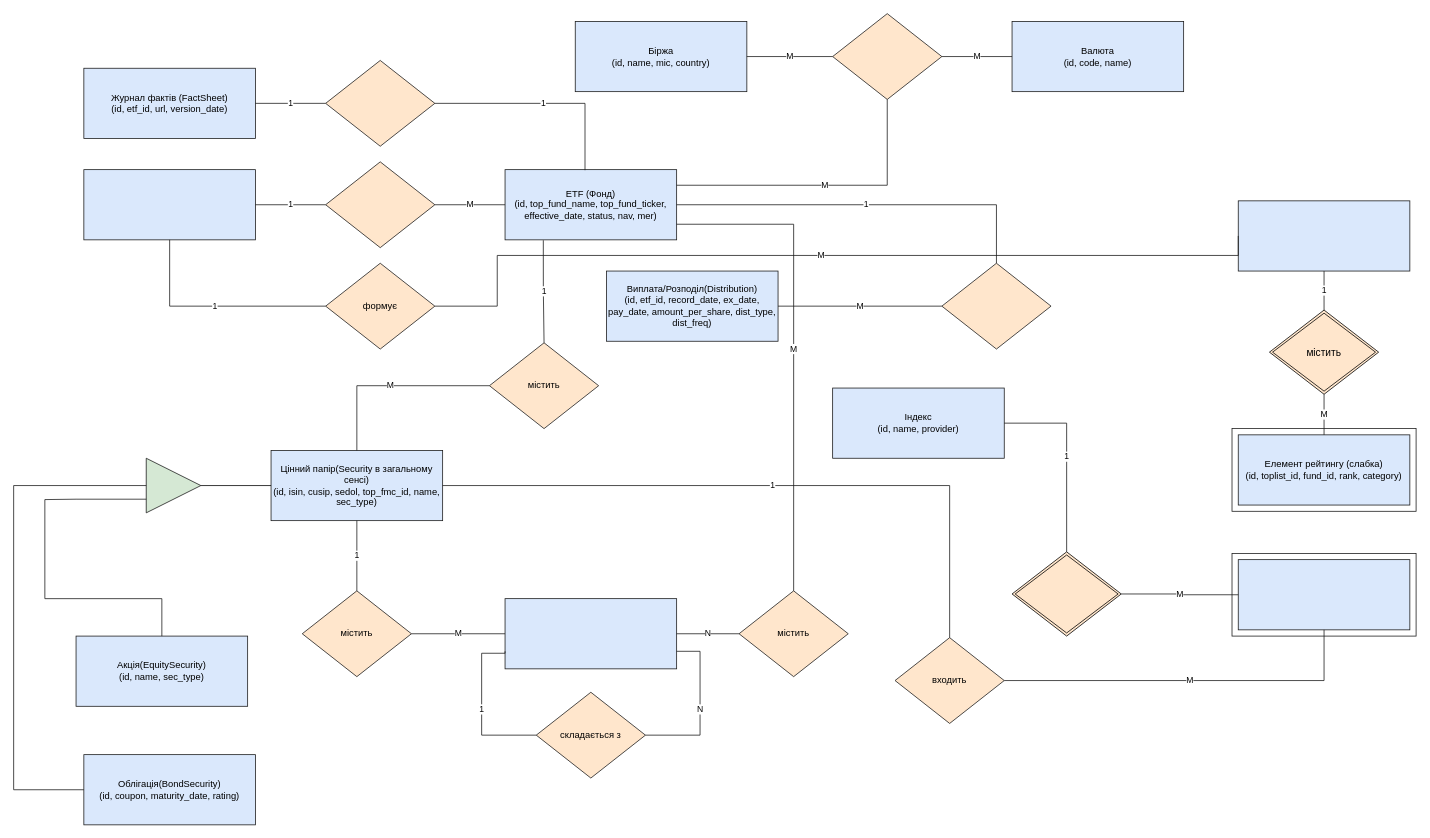
Image size: 1430x838. Some labels were removed from this diagram. The centre of each missing label's shape, as x and y in pixels:
Банк (id, name, swift, address): the point at 169,204
виплачує: the point at 996,305
випускає: the point at 380,204
Лістинг (по ticker, is_primary): the point at 887,56
має: the point at 380,103
має склад: the point at 1066,593
Рейтинговий список від Банку (id, bank_id, name, published_at, notes): the point at 1323,235
Склад індексу (слабка) (id, index_id, security_id, as_of_date, target_weight): the point at 1323,594
Холдинг (id, fund_id, security_id, market_value_local, market_value_base, units): the point at 590,633
